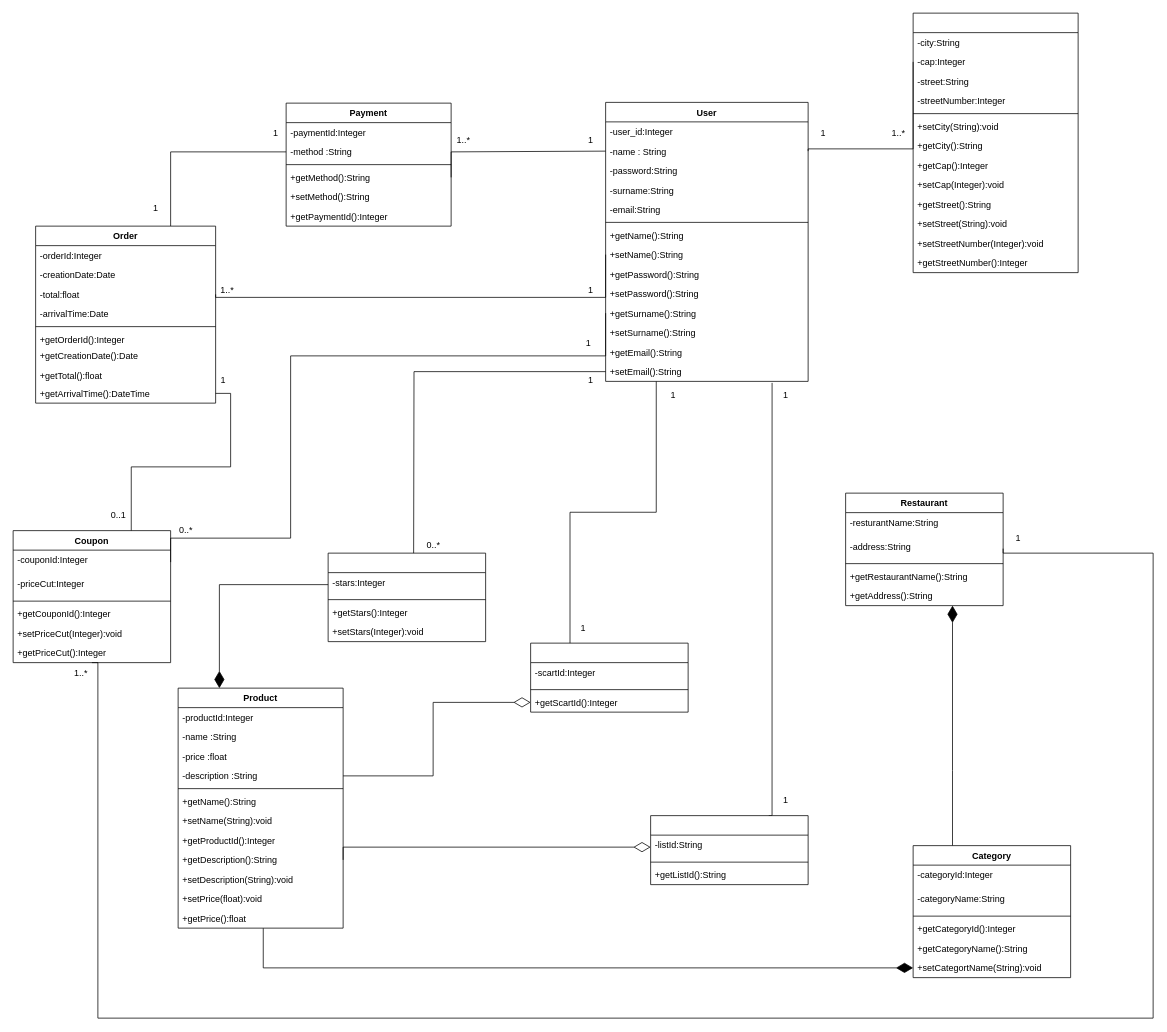
Some shapes in this 1167 by 1032 pixel diagram are drawn without their labels. The shapes that lost their labels are listed below. From the top down, each one's box as (x1, y1, x2, y2) in pixels, then its label:
(912, 12, 1078, 273): ShippingAddress
(327, 552, 486, 642): Review
(530, 642, 688, 712): ShoppingCart
(650, 815, 808, 885): Favourites
